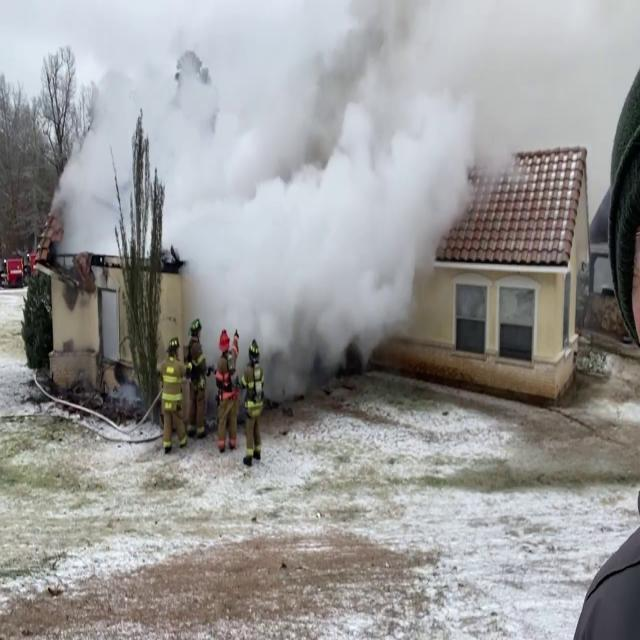Smoke: (172, 0, 496, 371)
